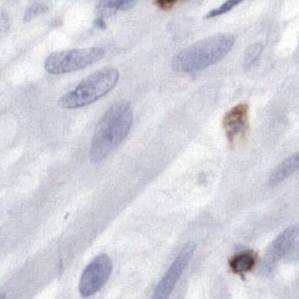Lymphocyte: (227, 247, 258, 277)
